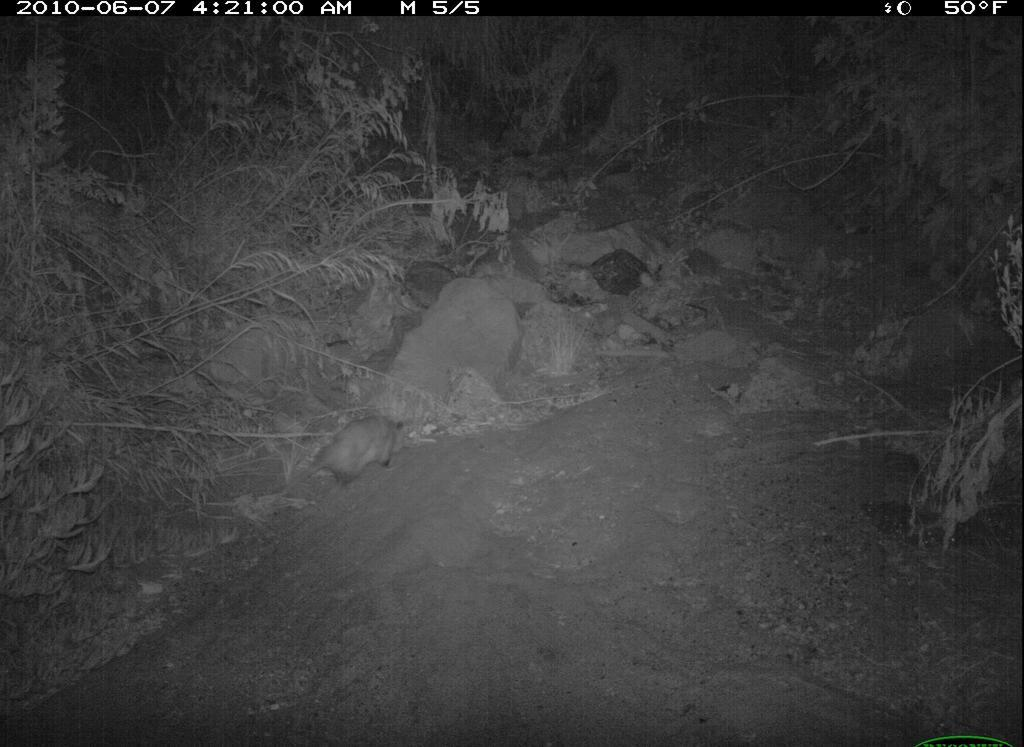opossum: (260, 406, 423, 513)
